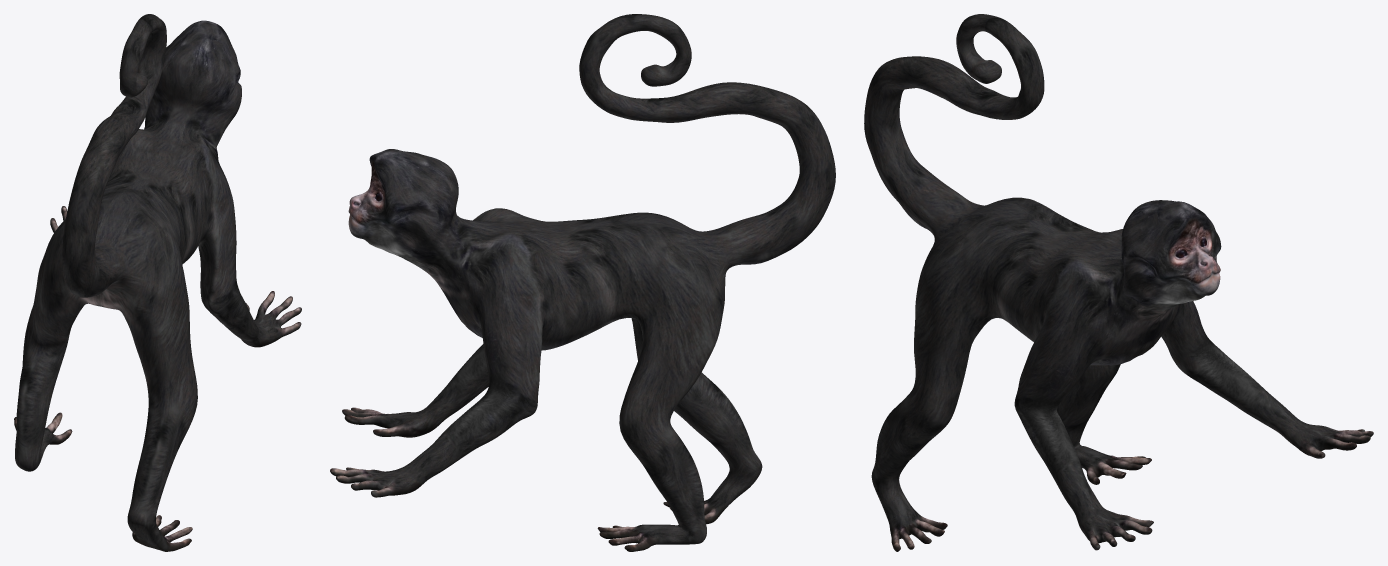
The model's file is monkey.gltf.
3 renders of one model, left to right at view 1: azimuth 30°, elevation 25°; view 2: azimuth 150°, elevation 25°; view 3: azimuth 270°, elevation 25°, orthographic. The views are drawn at different scales.
Visible parts, largest first — view 1: 12958_Spider_Monkey_v1_l2; view 2: 12958_Spider_Monkey_v1_l2; view 3: 12958_Spider_Monkey_v1_l2.
Boxes of the visible parts, x1,y1,x2,y2 form: 12958_Spider_Monkey_v1_l2: [14, 14, 301, 551]; 12958_Spider_Monkey_v1_l2: [330, 14, 835, 551]; 12958_Spider_Monkey_v1_l2: [864, 14, 1373, 551].
Bounding box in the file's own units: 73.07 × 99.89 × 86.07.
1 material, 1 textured.
